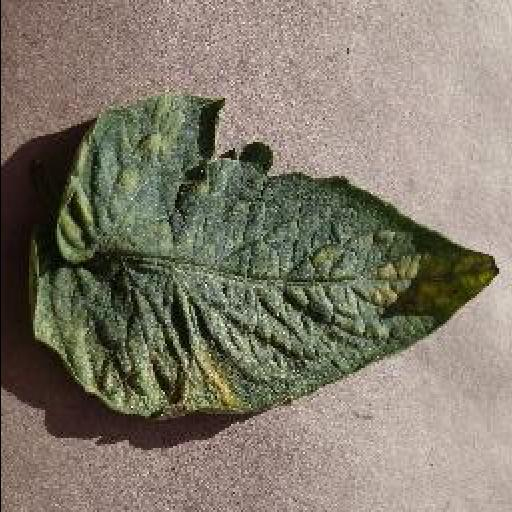disease_tomato: (26, 93, 498, 419)
